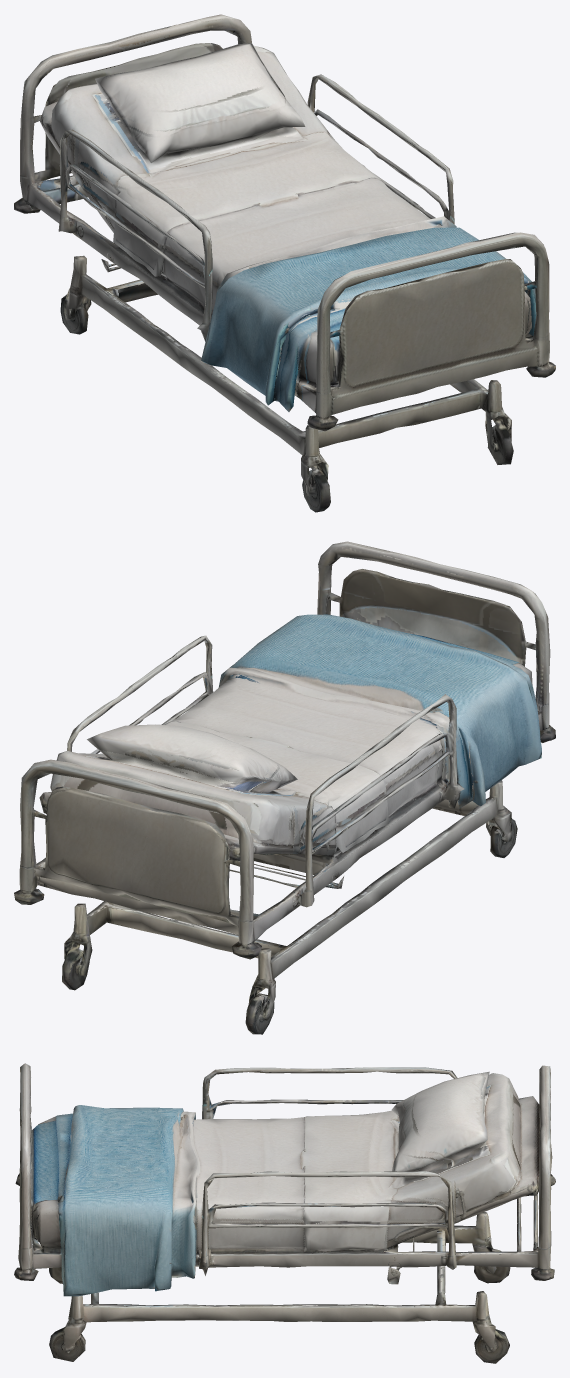
Rendered from hospital_bed.glb.
3 views of the same model, one above another, from view 1: azimuth 30°, elevation 25°; view 2: azimuth 150°, elevation 25°; view 3: azimuth 270°, elevation 25° (orthographic). The views are drawn at different scales.
Parts seen in each view (by area): view 1: texture_mapping; view 2: texture_mapping; view 3: texture_mapping.
Part boxes in pixels (x1,y1,x2,y2): texture_mapping: (14, 14, 555, 512); texture_mapping: (14, 541, 555, 1034); texture_mapping: (14, 1063, 555, 1363).
Size of the model in its own units: 0.5279 by 0.465 by 0.9978.
1 material, 1 textured.
